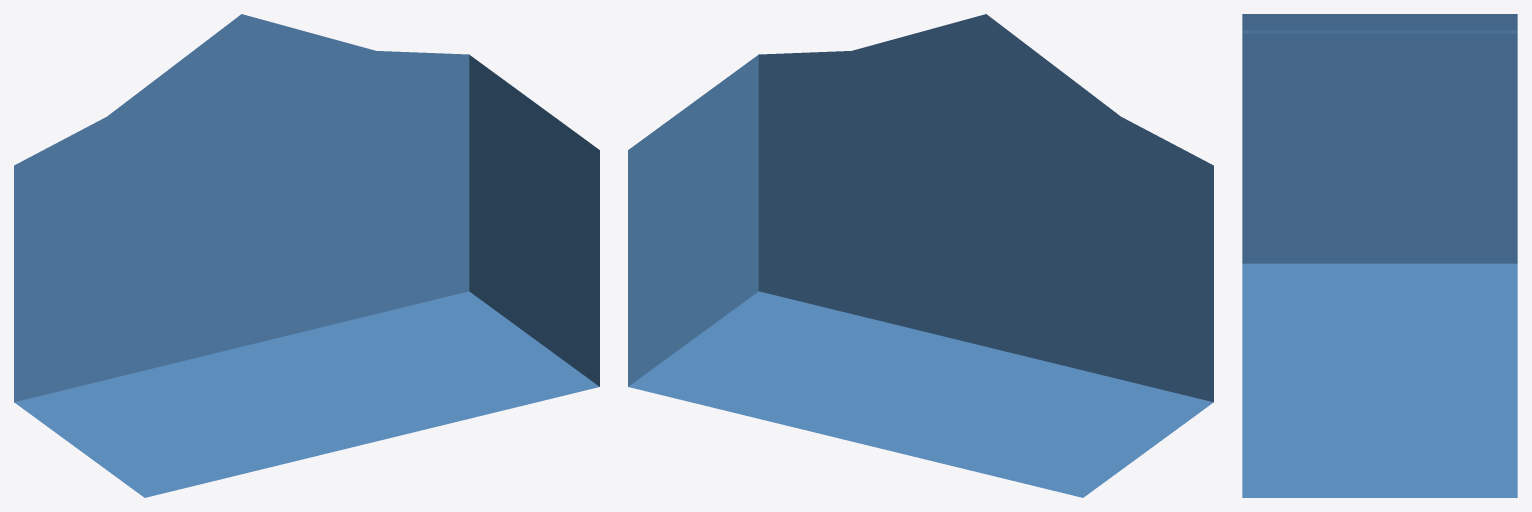
File: houseblue.gltf
3 renders of one model, left to right at view 1: azimuth 30°, elevation 25°; view 2: azimuth 150°, elevation 25°; view 3: azimuth 270°, elevation 25°, orthographic. The views are drawn at different scales.
Parts seen in each view (by area): view 1: Cube; view 2: Cube; view 3: Cube.
Part boxes in pixels (x1,y1,x2,y2): Cube: (14,14,599,497); Cube: (628,14,1213,497); Cube: (1242,14,1517,497).
Size of the model in its own units: 1.22 by 0.8492 by 0.6043.
